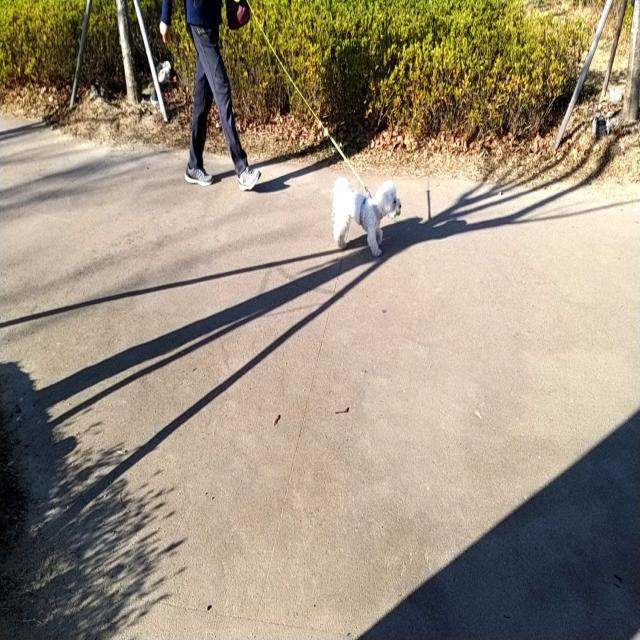Leashed_Dog: (186, 0, 401, 257)
